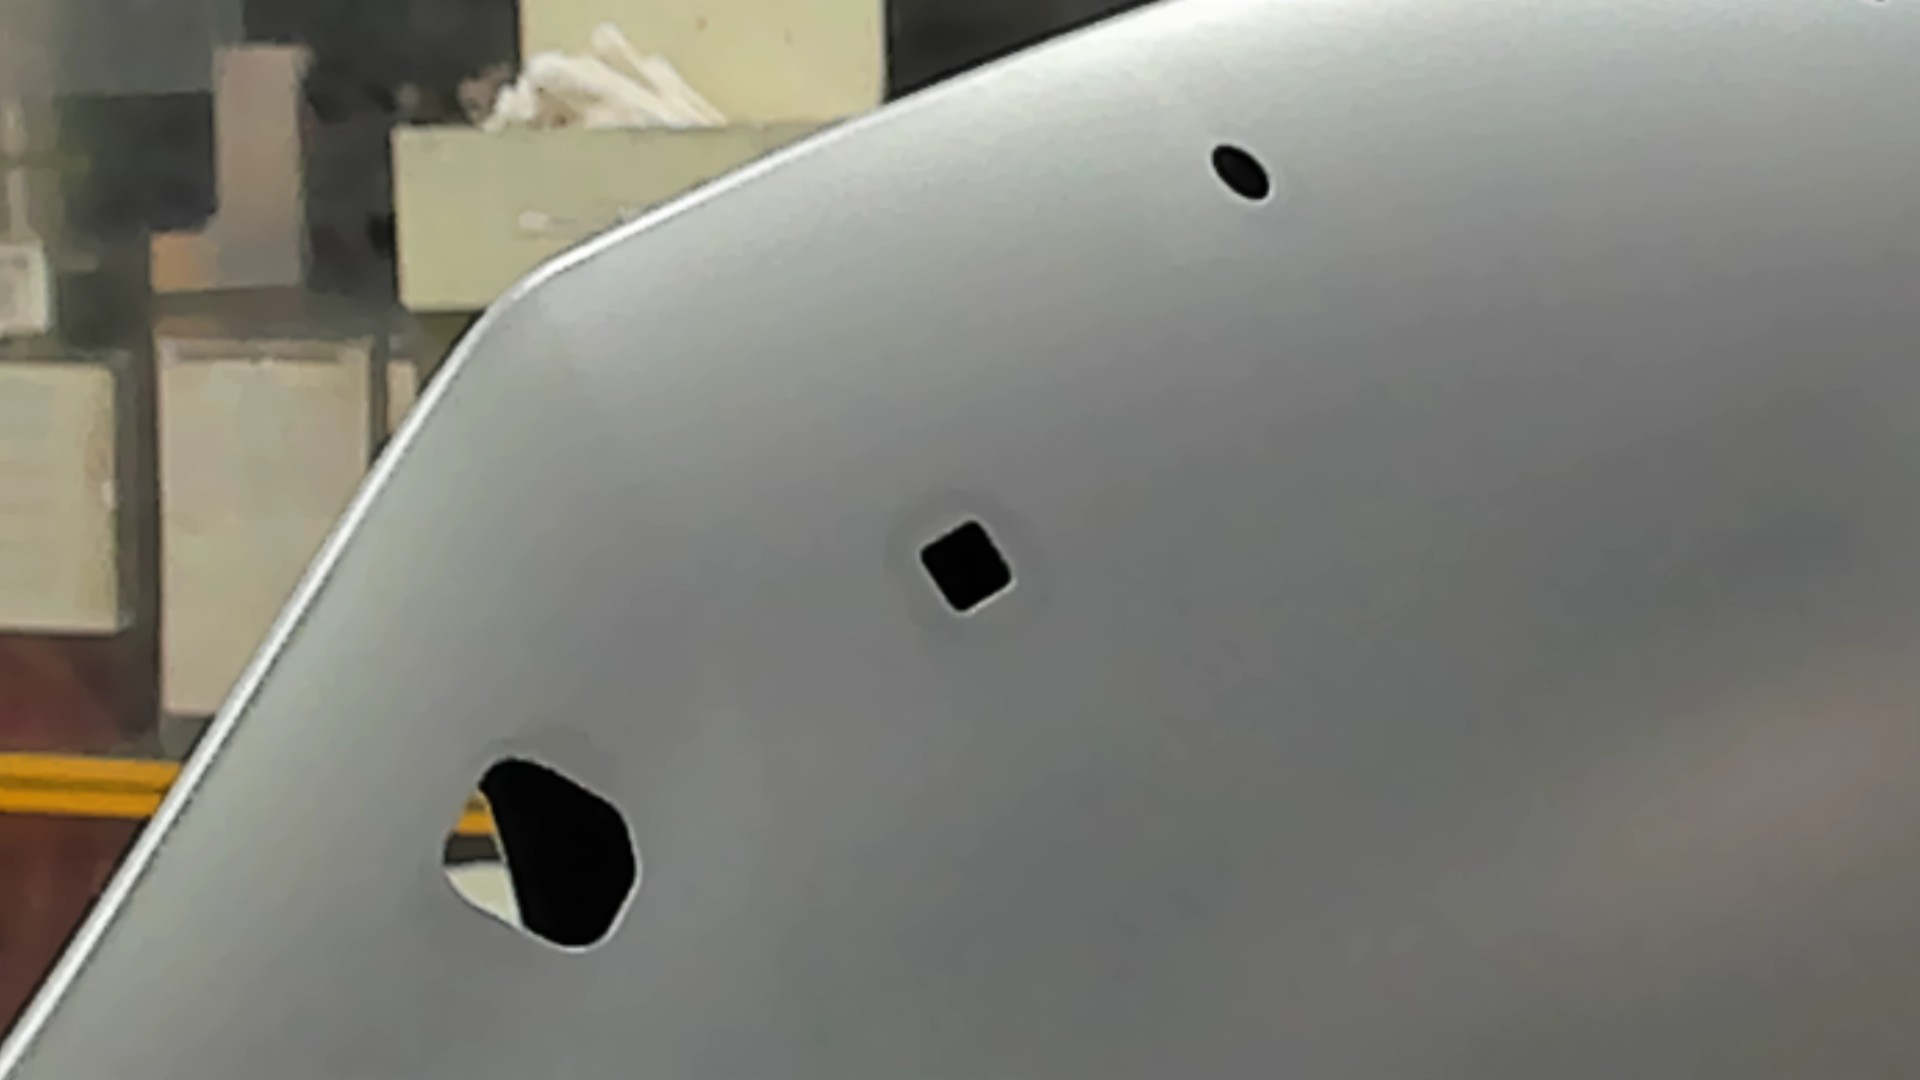chico: (1204, 138, 1280, 211)
grande: (438, 752, 646, 956)
mediano: (910, 512, 1021, 622)
